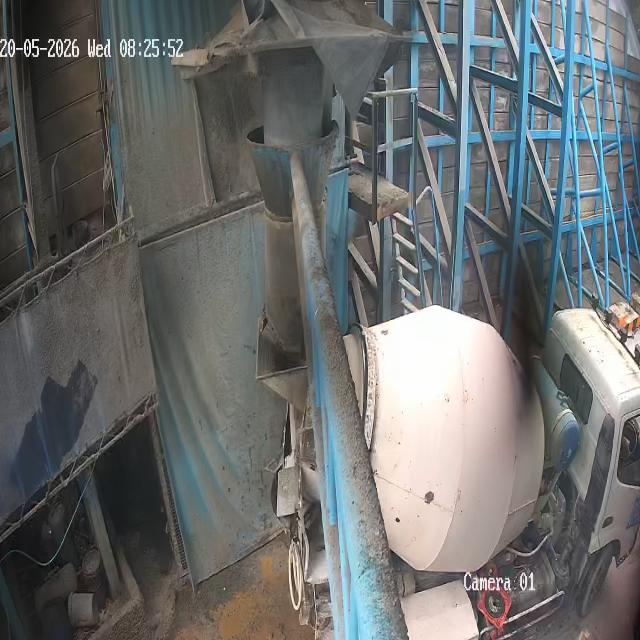cement_mixer_truck: (256, 306, 639, 639)
swing_chute: (256, 120, 338, 361)
